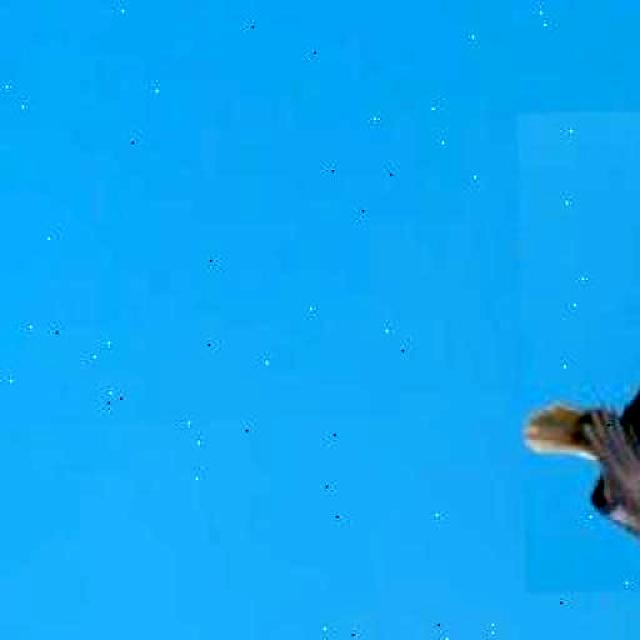airplane: (518, 109, 640, 595)
